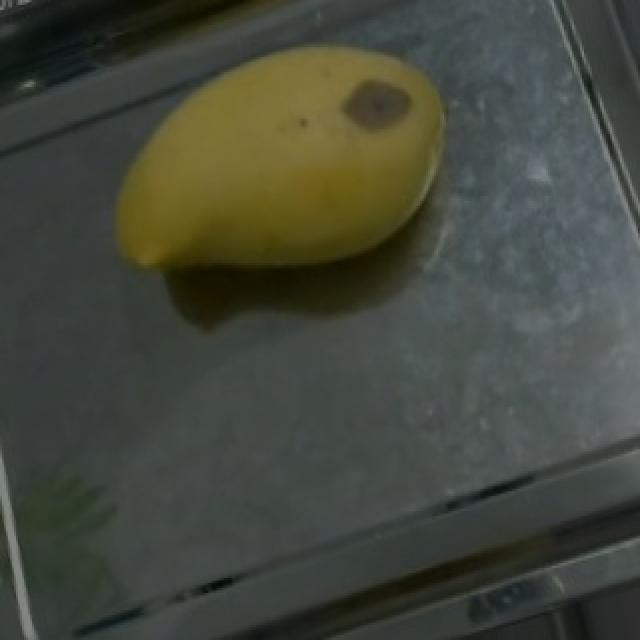fruit: (100, 0, 510, 340)
